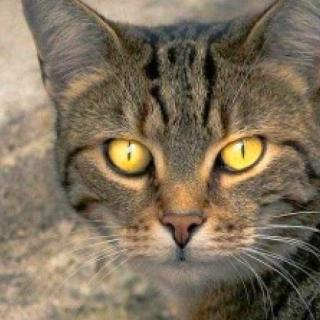cat: (22, 0, 319, 276)
nose: (152, 189, 215, 253)
